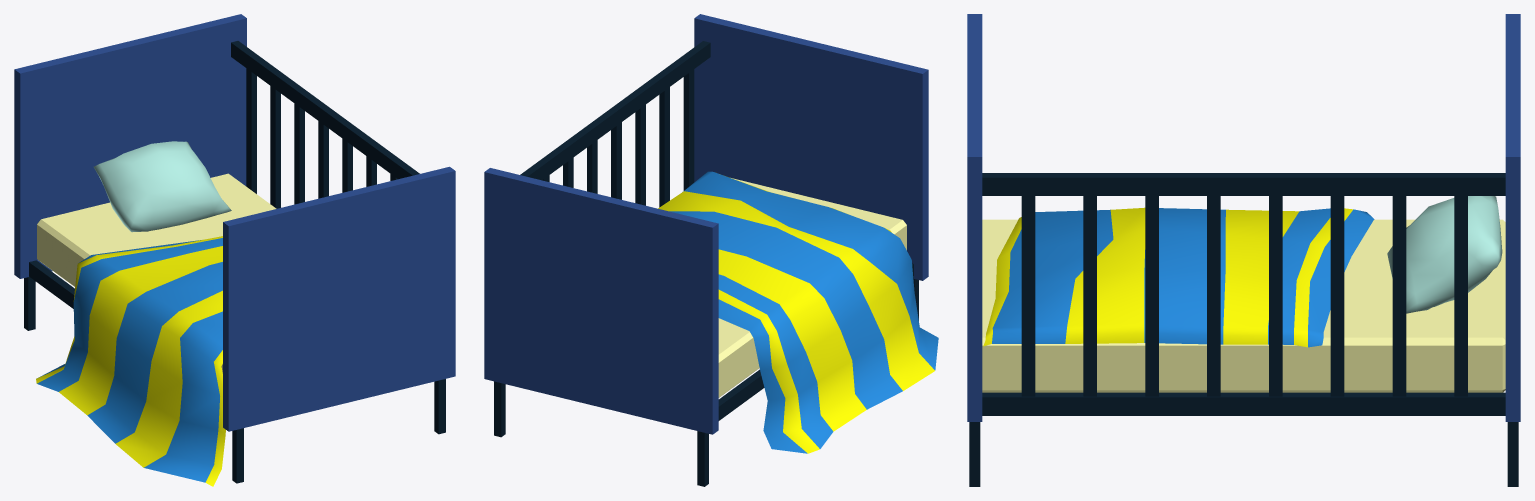
Rendered from Prop_BabyBed_02.fbx.
3 views of the same model, side by side, from view 1: azimuth 30°, elevation 25°; view 2: azimuth 150°, elevation 25°; view 3: azimuth 270°, elevation 25° (orthographic). The views are drawn at different scales.
Parts seen in each view (by area): view 1: Prop_BabyBed_02; view 2: Prop_BabyBed_02; view 3: Prop_BabyBed_02.
Part boxes in pixels (<box>): Prop_BabyBed_02: <box>14,14,455,486</box>; Prop_BabyBed_02: <box>484,14,938,486</box>; Prop_BabyBed_02: <box>967,14,1520,486</box>.
Bounding box in the file's own units: 87.18 × 79.77 × 119.
